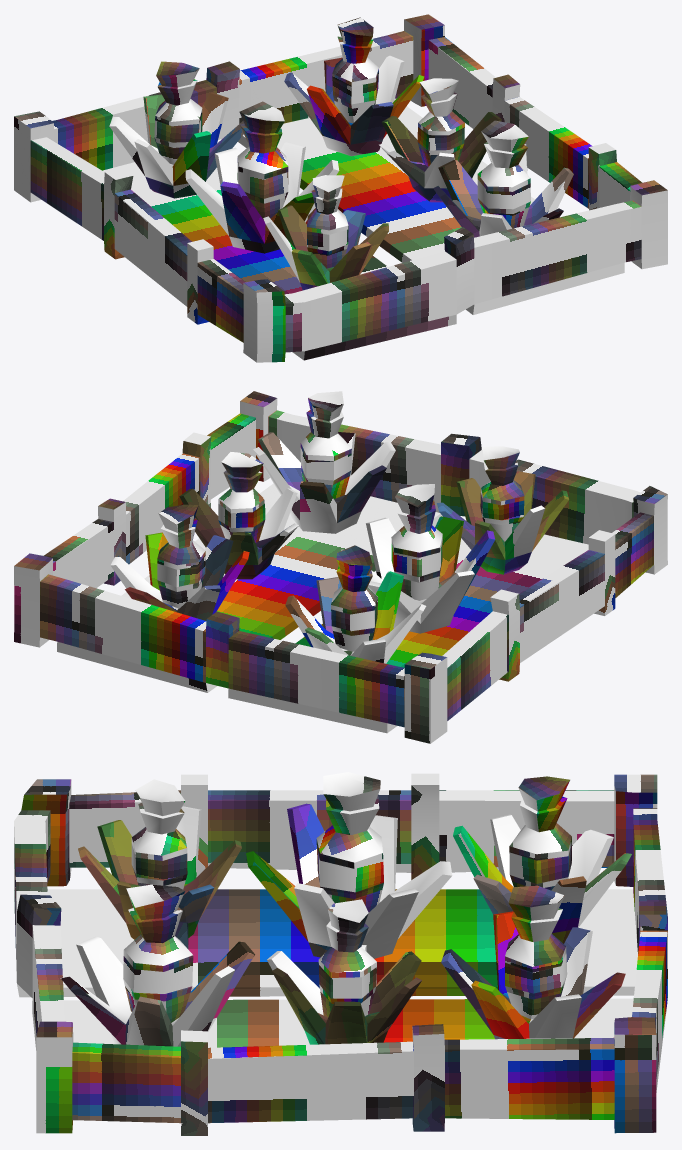
The model's file is NativeFarmAnanas.fbx.
3 renders of one model, top to bottom at view 1: azimuth 30°, elevation 25°; view 2: azimuth 150°, elevation 25°; view 3: azimuth 270°, elevation 25°, orthographic. The views are drawn at different scales.
Parts seen in each view (by area): view 1: AnanasFarm_Default; view 2: AnanasFarm_Default; view 3: AnanasFarm_Default.
Part boxes in pixels (x1=…): AnanasFarm_Default: x1=14, y1=14, x2=667, y2=362; AnanasFarm_Default: x1=14, y1=391, x2=667, y2=743; AnanasFarm_Default: x1=14, y1=772, x2=667, y2=1135.
Size of the model in its own units: 202 by 65.19 by 211.
